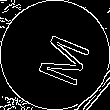M_W: (23, 24, 87, 86)
